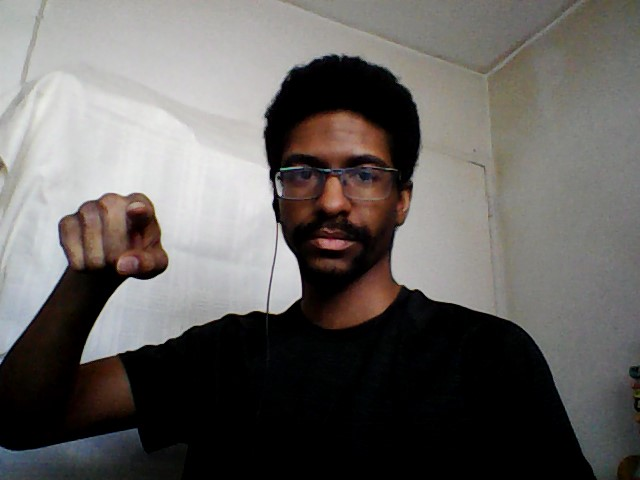z: (55, 187, 174, 283)
